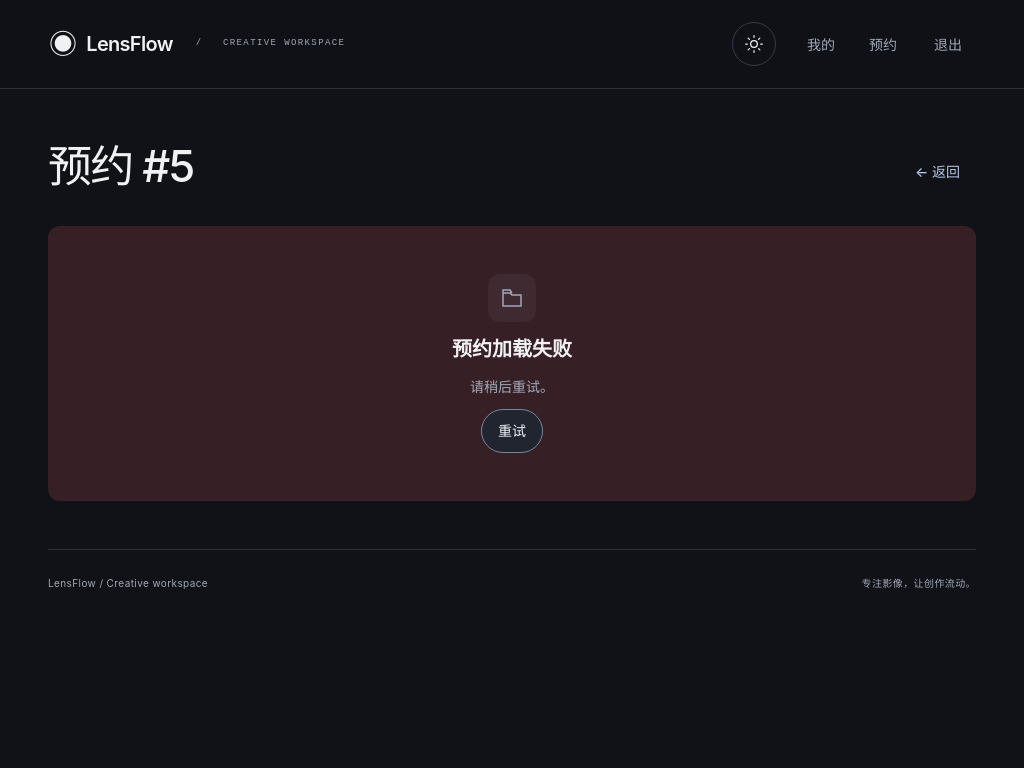
P4 booking migration › announces booking fetch errors and retries
Expected: the message shows "预约加载失败", [452, 337, 572, 361]
Click the button "重试". click: x=512, y=431
box: [481, 409, 543, 453]
(page scrolled)
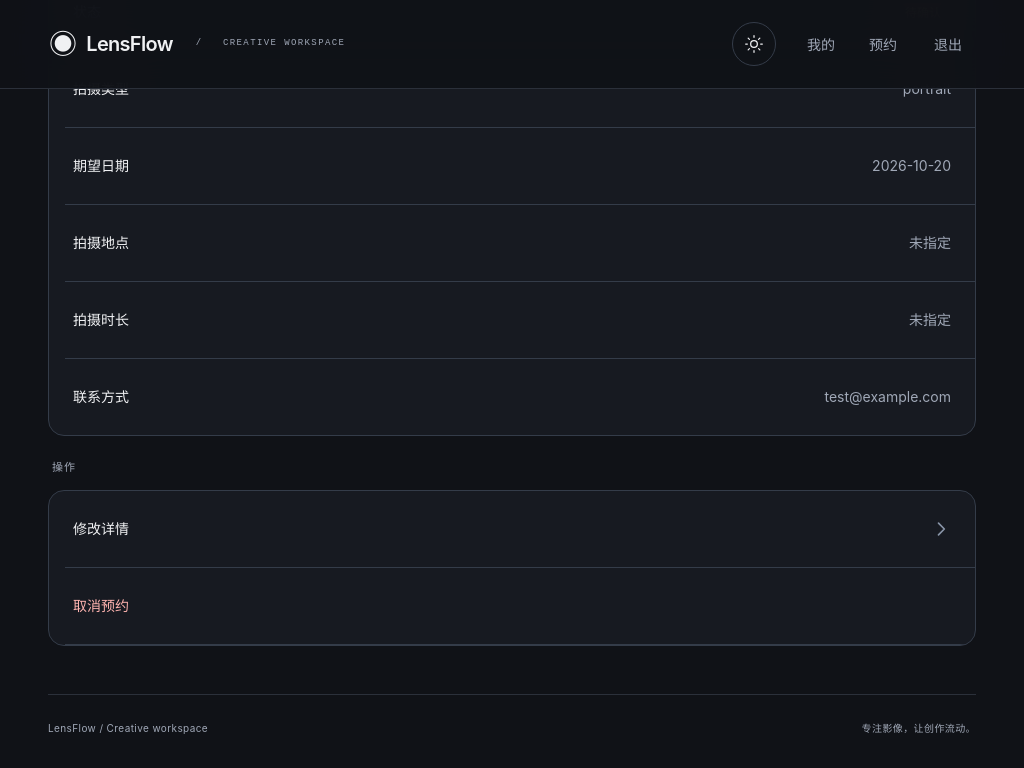
Now the button "修改详情" is shown, box [49, 491, 975, 567]
